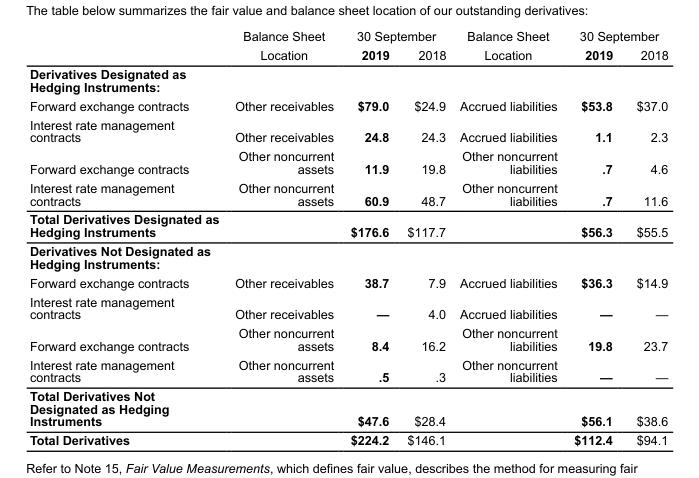table: (28, 28, 667, 447)
table column: (28, 28, 226, 447), (226, 28, 341, 447), (452, 28, 564, 447), (564, 28, 623, 447), (341, 28, 397, 447), (397, 28, 452, 447), (623, 28, 667, 447)
table column header: (28, 28, 667, 64)
table projected row header: (28, 64, 667, 95), (28, 241, 667, 272)
table row: (28, 386, 667, 430), (28, 114, 667, 146), (28, 146, 667, 178), (28, 209, 667, 241), (28, 291, 667, 323), (28, 354, 667, 386), (28, 64, 667, 95), (28, 178, 667, 209), (28, 241, 667, 272), (28, 323, 667, 354), (28, 45, 667, 64), (28, 95, 667, 114), (28, 272, 667, 291), (28, 28, 667, 45), (28, 430, 667, 447)
table spanning cell: (226, 28, 341, 64), (452, 28, 564, 64), (341, 28, 452, 45), (564, 28, 667, 45)
